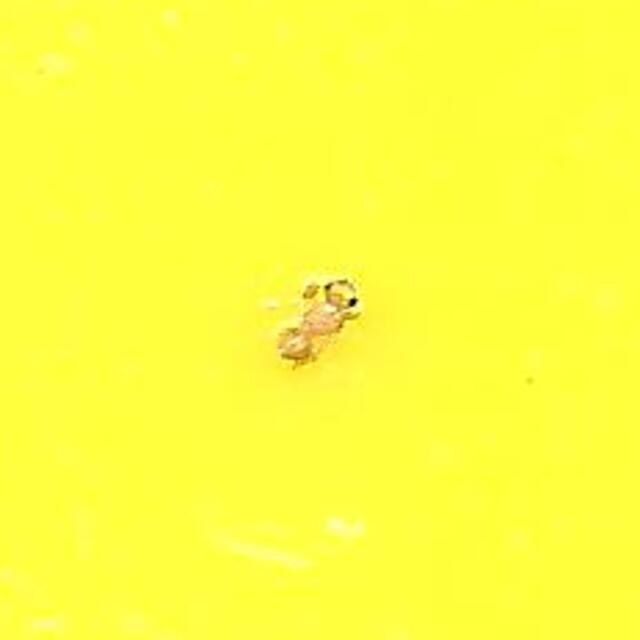Hymenoptera: (276, 264, 364, 376)
